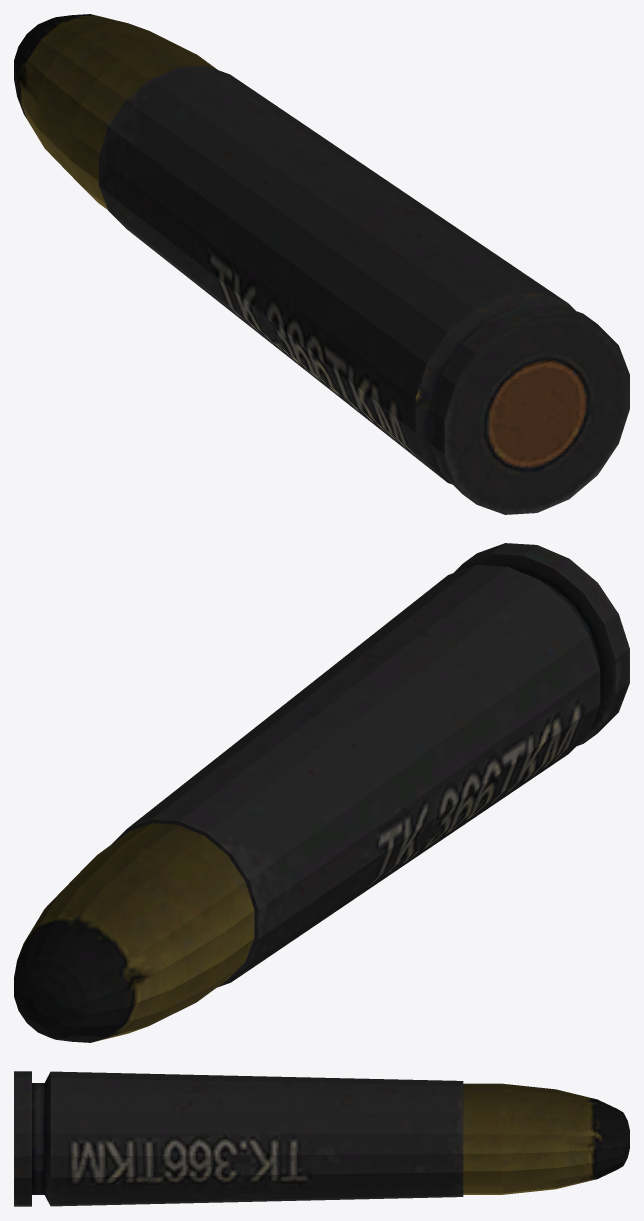
The picture shows the model from 3 angles, top to bottom: view 1: azimuth 30°, elevation 25°; view 2: azimuth 150°, elevation 25°; view 3: azimuth 270°, elevation 25°; orthographic projection. The views are drawn at different scales.
Parts seen in each view (by area): view 1: TW_59e6658b86f77411d949b250_PZ_Import; view 2: TW_59e6658b86f77411d949b250_PZ_Import; view 3: TW_59e6658b86f77411d949b250_PZ_Import.
Part boxes in pixels (x1,y1,x2,y2): TW_59e6658b86f77411d949b250_PZ_Import: (14,14,629,514); TW_59e6658b86f77411d949b250_PZ_Import: (14,543,629,1042); TW_59e6658b86f77411d949b250_PZ_Import: (14,1071,629,1206).
Size of the model in its own units: 0.00645 by 0.0297 by 0.00655.
1 material, 1 textured.
